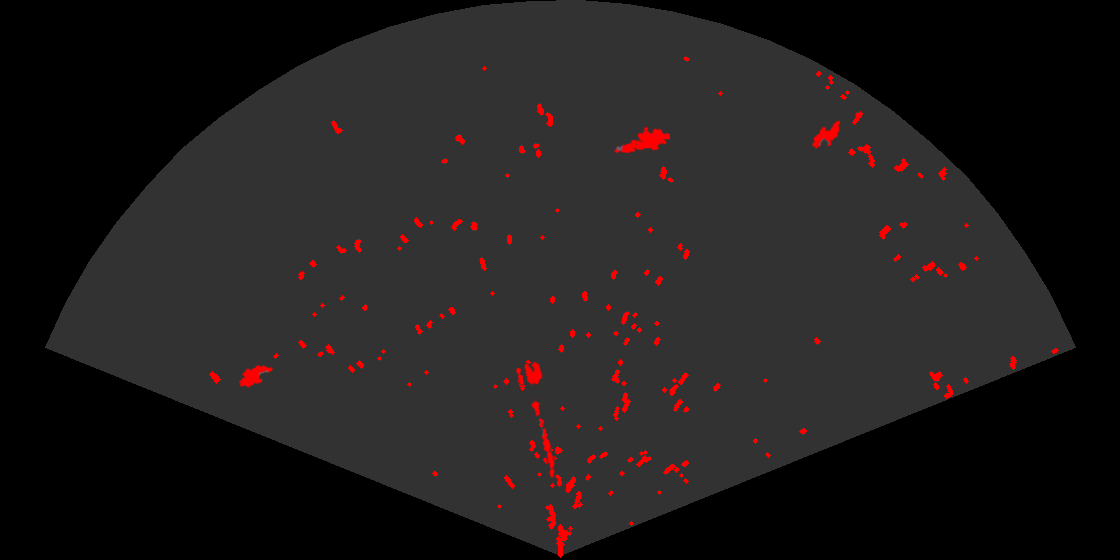AUV: (810, 119, 842, 150), (237, 363, 275, 389)
ball: (514, 360, 544, 387)
chain: (530, 396, 556, 480)
frogman: (613, 125, 670, 155)
